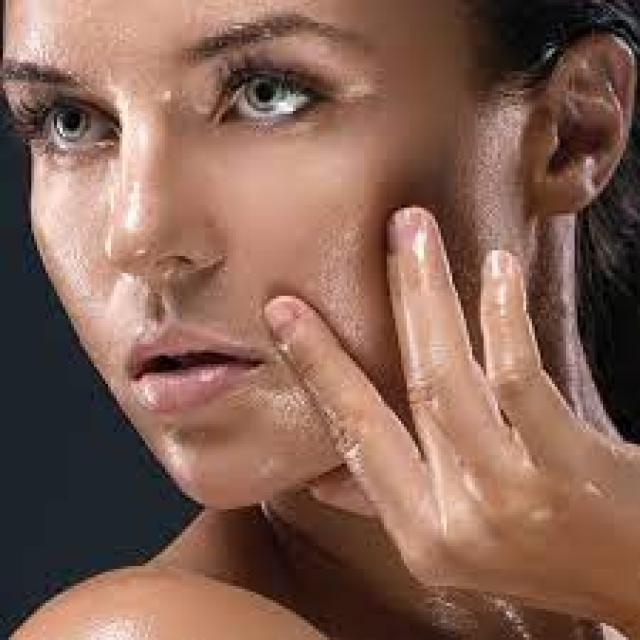oily: (41, 173, 145, 339), (84, 20, 187, 150)
